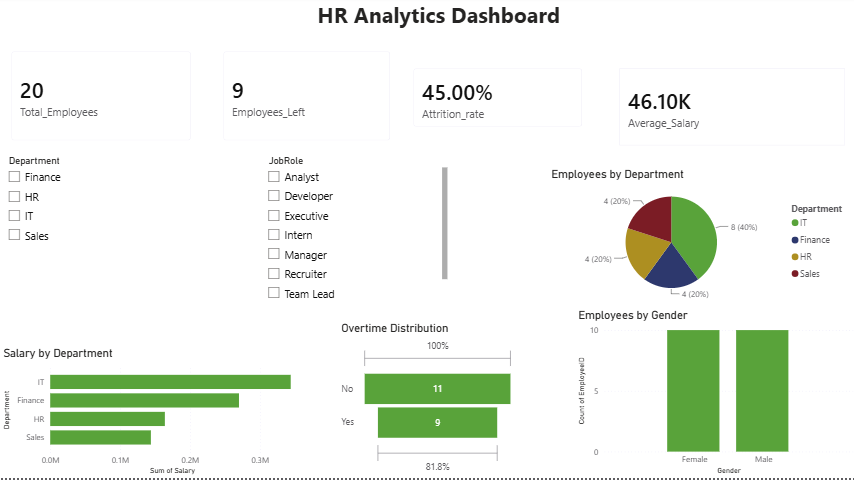

The dashboard page shown, as its layout file describes it:
{"tool":"powerbi","page":{"name":"Page 1","canvas":[1280,720],"ordinal":0},"visuals":[{"type":"cardVisual","fields":{"Data":["Sheet1.Total_Employees"]},"box":[0,65.1,302.8,167.3],"z":0},{"type":"cardVisual","fields":{"Data":["Sheet1.Employees_Left"]},"box":[316.9,65.1,283.5,167.3],"z":1000},{"type":"cardVisual","fields":{"Data":["Sheet1.Attrition_rate"]},"box":[600.4,91.6,287,121.5],"z":2000},{"type":"cardVisual","fields":{"Data":["Sheet1.Average_Salary"]},"box":[908.5,91.6,371.5,149.7],"z":3000},{"type":"pieChart","title":"Employees by Department","fields":{"Category":["Sheet1.Department"],"Y":["CountNonNull(Sheet1.EmployeeID)"]},"box":[818.7,255.3,461.3,206],"z":4000},{"type":"clusteredColumnChart","title":"Employees by Gender","fields":{"Category":["Sheet1.Gender"],"Y":["CountNonNull(Sheet1.EmployeeID)"]},"box":[859.2,466.6,420.8,253.5],"z":5000},{"type":"clusteredBarChart","title":"Salary by Department","fields":{"Category":["Sheet1.Department"],"Y":["Sum(Sheet1.Salary)"]},"box":[0,522.9,459.5,197.2],"z":6000},{"type":"slicer","fields":{"Values":["Sheet1.Department"]},"box":[0,232.4,285.2,253.5],"z":7000},{"type":"slicer","fields":{"Values":["Sheet1.JobRole"]},"box":[389.1,232.4,285.2,225.4],"z":8000},{"type":"funnel","title":" Overtime Distribution","fields":{"Category":["Sheet1.Overtime"],"Y":["CountNonNull(Sheet1.EmployeeID)"]},"box":[505.3,485.9,267.6,234.2],"z":9000},{"type":"textbox","box":[100.4,0,1111,56.3],"z":10000}]}

Visuals, with their boxes in screenshot pixels (x1, y1, x2, y2), scaled from the page's 1280x720 canvas onto the 854x482 screenshot:
cardVisual - Sheet1.Total_Employees: pyautogui.locateOnScreen(0, 44, 202, 156)
cardVisual - Sheet1.Employees_Left: pyautogui.locateOnScreen(211, 44, 401, 156)
cardVisual - Sheet1.Attrition_rate: pyautogui.locateOnScreen(401, 61, 592, 143)
cardVisual - Sheet1.Average_Salary: pyautogui.locateOnScreen(606, 61, 853, 162)
"Employees by Department" pieChart: pyautogui.locateOnScreen(546, 171, 853, 309)
"Employees by Gender" clusteredColumnChart: pyautogui.locateOnScreen(573, 312, 853, 481)
"Salary by Department" clusteredBarChart: pyautogui.locateOnScreen(0, 350, 307, 481)
slicer - Sheet1.Department: pyautogui.locateOnScreen(0, 156, 190, 325)
slicer - Sheet1.JobRole: pyautogui.locateOnScreen(260, 156, 450, 306)
" Overtime Distribution" funnel: pyautogui.locateOnScreen(337, 325, 516, 481)
textbox: pyautogui.locateOnScreen(67, 0, 808, 38)
